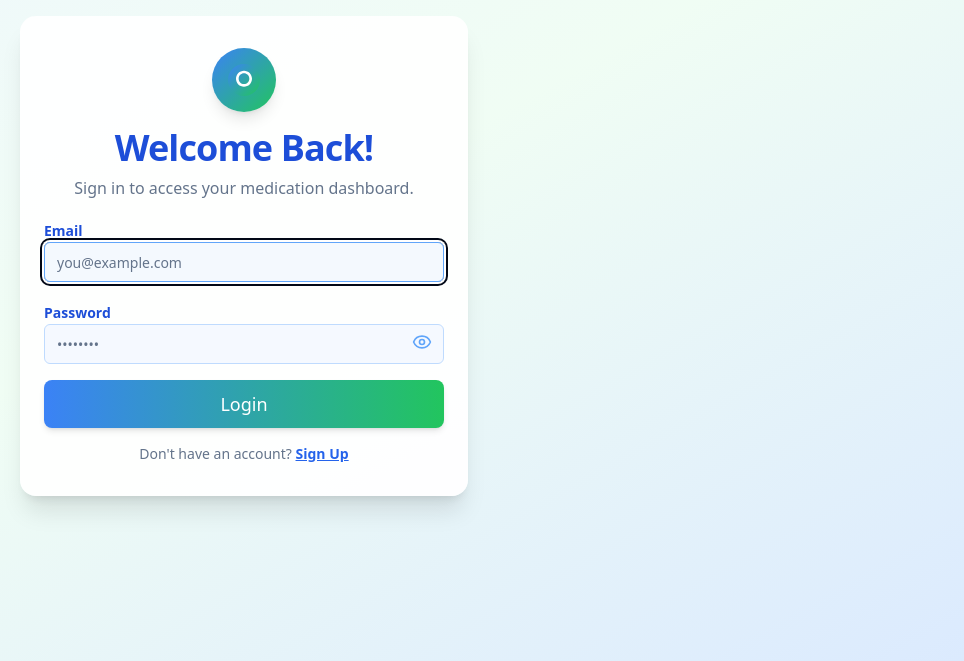
Scenario: AuthForm › switches to the sign-up form when the link is clicked
This screenshot has width=964, height=661.
Click the button "Sign Up": click(322, 454) [296,444,349,464]
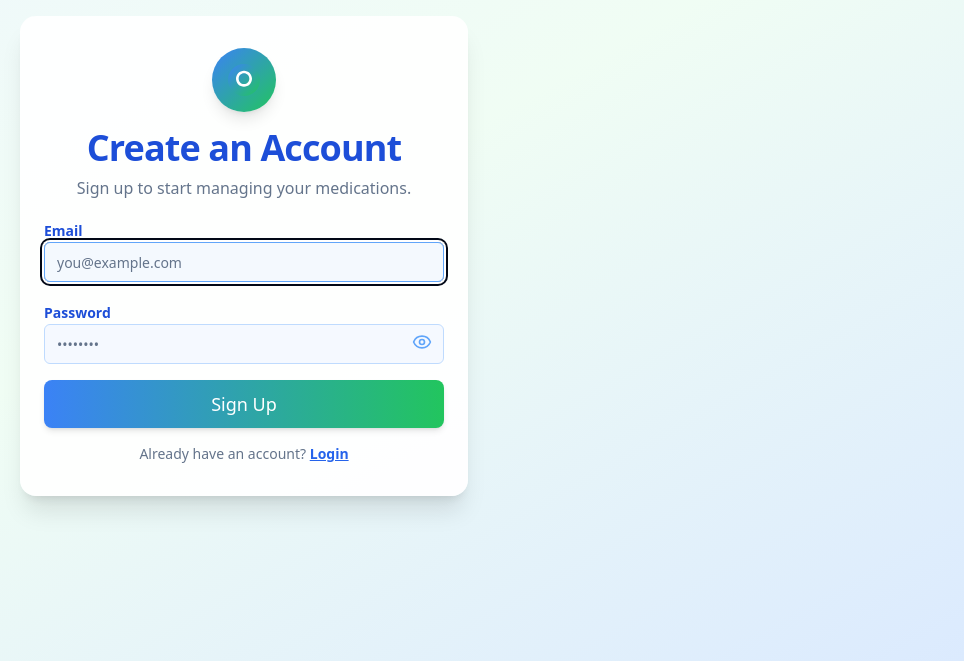
Result: the heading "Create an Account" is shown at [87,128,401,168]
Result: the button "Sign Up" is shown at [44,380,444,428]
